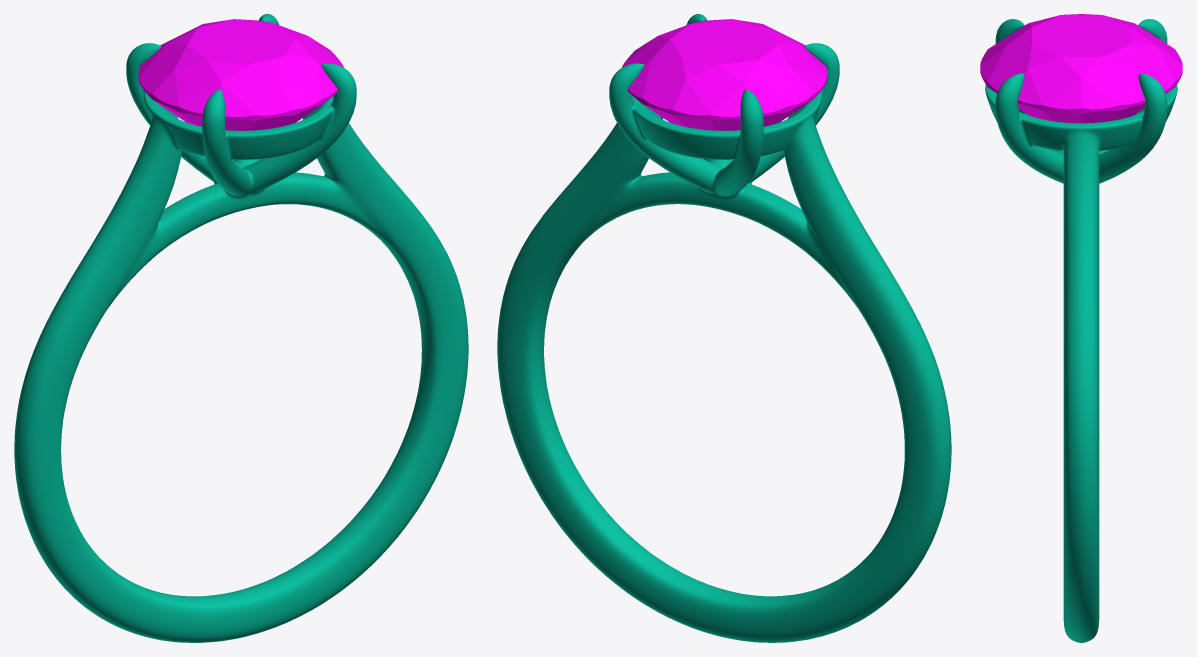
Rendered from BE1776_RD_200ct_RENDER.glb.
3 views of the same model, side by side, from view 1: azimuth 30°, elevation 25°; view 2: azimuth 150°, elevation 25°; view 3: azimuth 270°, elevation 25° (orthographic).
Parts seen in each view (by area): view 1: Metal 01, CS_Diamond_Round; view 2: Metal 01, CS_Diamond_Round; view 3: Metal 01, CS_Diamond_Round.
Boxes of the visible parts, x1=… form: Metal 01: x1=14, y1=14, x2=468, y2=642; CS_Diamond_Round: x1=138, y1=19, x2=343, y2=130; Metal 01: x1=497, y1=14, x2=951, y2=642; CS_Diamond_Round: x1=622, y1=19, x2=827, y2=130; Metal 01: x1=985, y1=19, x2=1177, y2=642; CS_Diamond_Round: x1=980, y1=14, x2=1182, y2=123.
Bounding box in the file's own units: 20.15 × 25.41 × 8.
